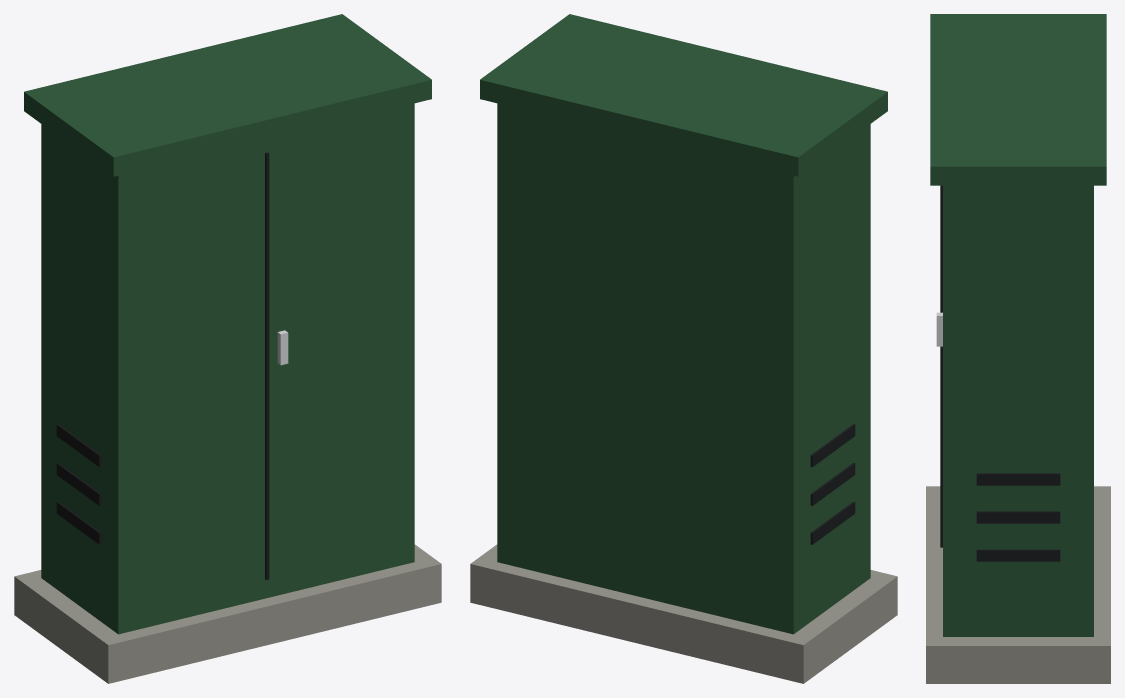
Rendered from utility_cabinet.glb.
3 views of the same model, side by side, from view 1: azimuth 30°, elevation 25°; view 2: azimuth 150°, elevation 25°; view 3: azimuth 270°, elevation 25° (orthographic).
Parts seen in each view (by area): view 1: utility_cabinet; view 2: utility_cabinet; view 3: utility_cabinet.
Boxes of the visible parts, bbox=[...] form: utility_cabinet: bbox=[14, 14, 441, 683]; utility_cabinet: bbox=[470, 14, 897, 683]; utility_cabinet: bbox=[926, 14, 1110, 683].
Bounding box in the file's own units: 0.9 × 1.35 × 0.44.
Materials: 1 (1 with a texture image).
